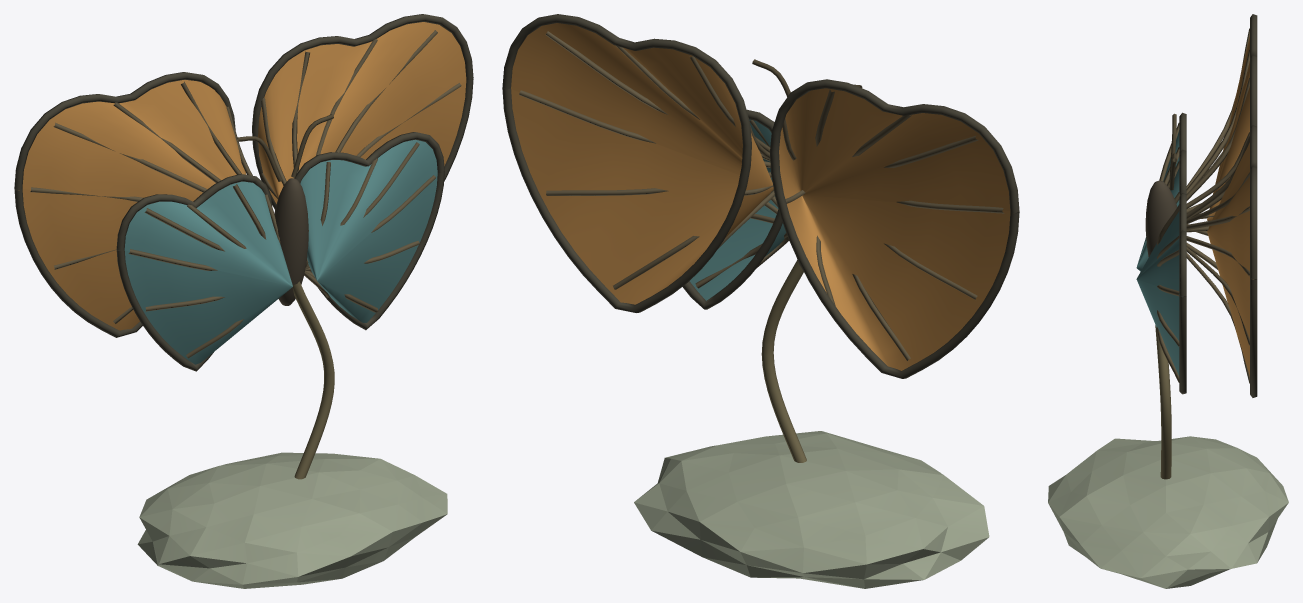
Rendered from butterfly.glb.
The picture shows the model from 3 angles, left to right: view 1: azimuth 30°, elevation 25°; view 2: azimuth 150°, elevation 25°; view 3: azimuth 270°, elevation 25°; orthographic projection. The views are drawn at different scales.
Visible parts, largest first — view 1: butterfly-metal, butterfly-stone; view 2: butterfly-metal, butterfly-stone; view 3: butterfly-stone, butterfly-metal.
Part boxes in pixels (x1=…): butterfly-metal: x1=14, y1=14, x2=473, y2=479; butterfly-stone: x1=137, y1=452, x2=447, y2=588; butterfly-metal: x1=502, y1=14, x2=1019, y2=462; butterfly-stone: x1=634, y1=431, x2=989, y2=588; butterfly-stone: x1=1048, y1=436, x2=1288, y2=588; butterfly-metal: x1=1136, y1=14, x2=1257, y2=479.
Size of the model in its own units: 1.73 by 1.68 by 0.8203.
